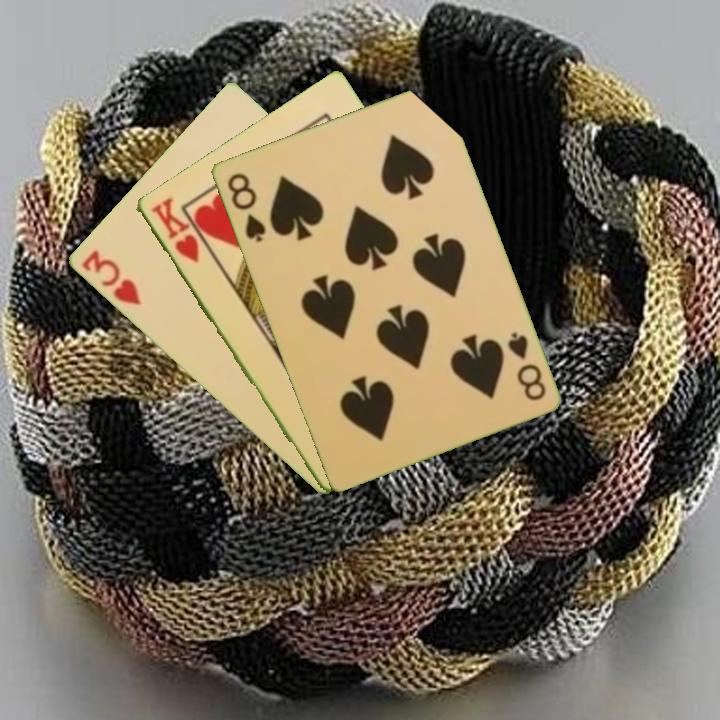3h: (77, 246, 143, 309)
8s: (223, 169, 269, 245), (503, 328, 549, 404)
Kh: (147, 194, 202, 266)
